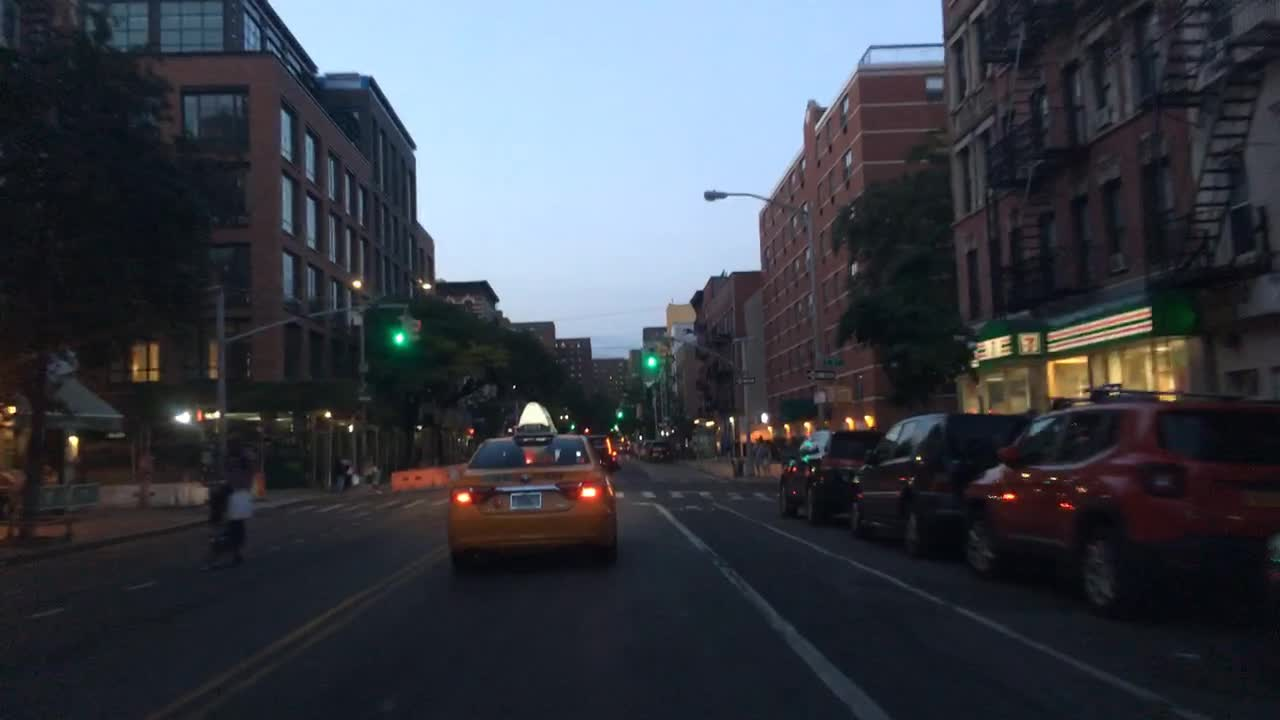car: (963, 383, 1278, 606), (446, 399, 621, 562), (848, 408, 1016, 552), (776, 429, 882, 522), (582, 432, 621, 467), (647, 441, 670, 460), (613, 433, 630, 452), (638, 440, 652, 455), (632, 440, 642, 453)
person: (205, 467, 232, 562), (228, 470, 251, 561), (756, 438, 774, 476)
traffic light: (642, 339, 659, 371), (392, 316, 407, 350), (810, 386, 831, 404), (414, 317, 423, 353), (834, 386, 854, 401), (189, 406, 203, 424), (616, 404, 624, 421), (566, 418, 575, 433)
traffic sign: (810, 367, 837, 381), (816, 353, 842, 367), (731, 373, 757, 383)
